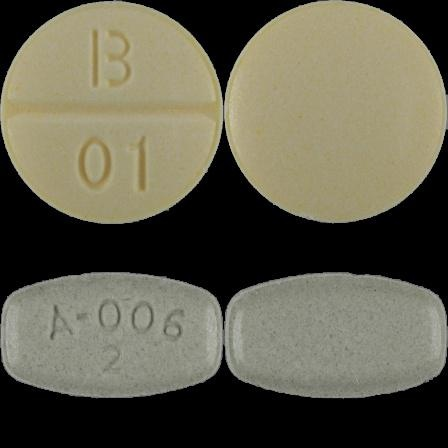58657-150: (0, 0, 224, 224)
